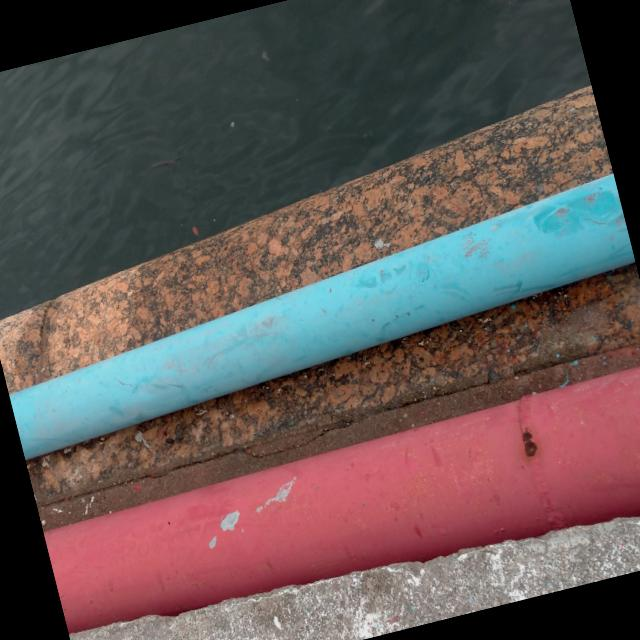gas: (0, 168, 640, 465), (39, 361, 640, 640)
